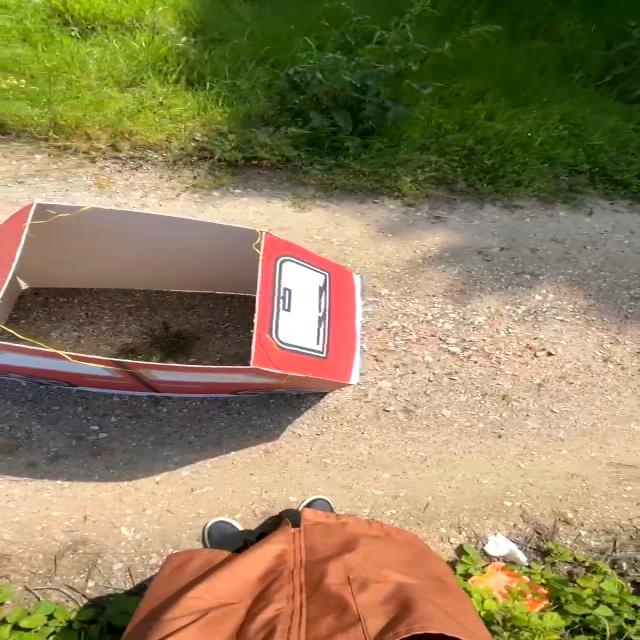red_car: (0, 162, 434, 429)
